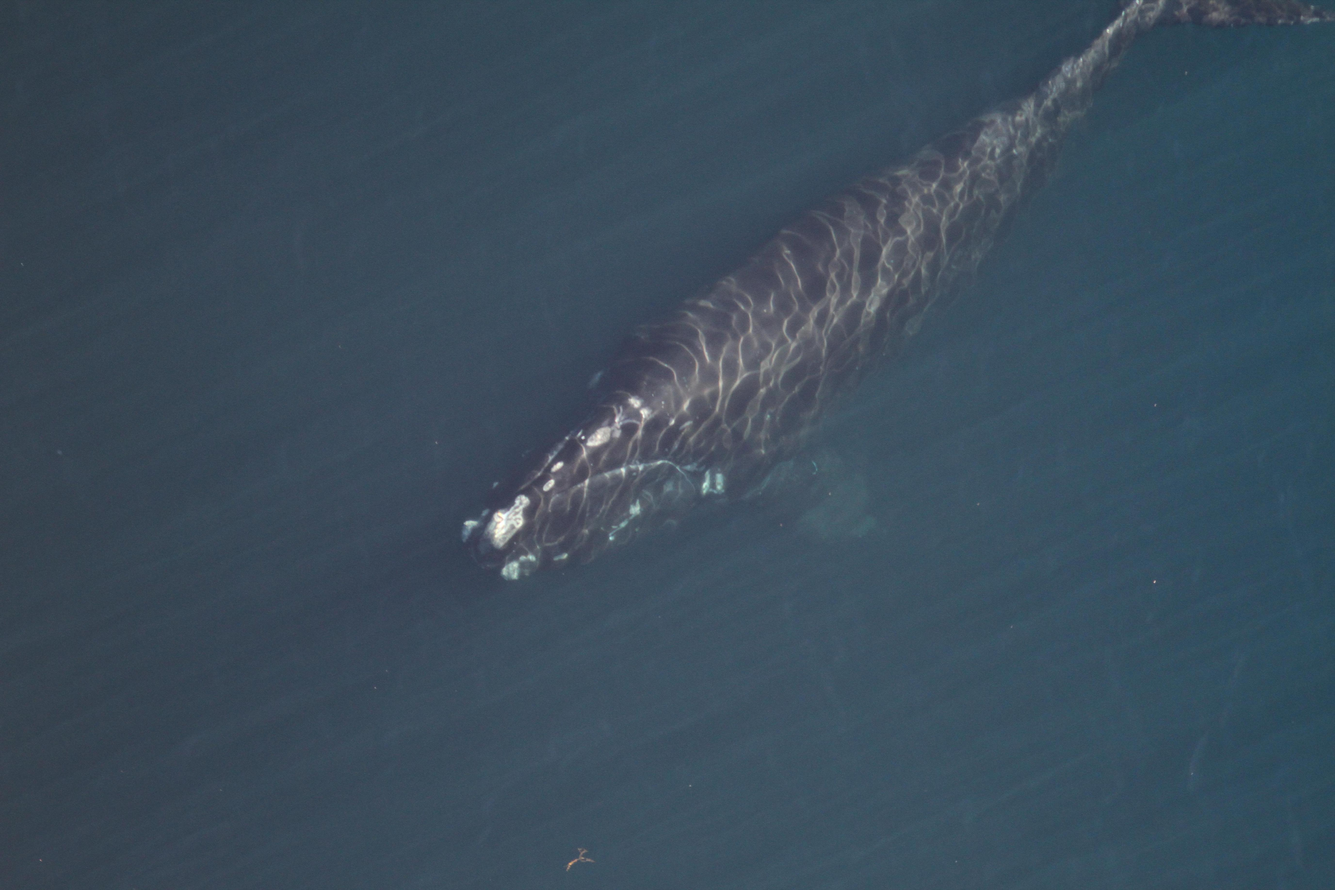whale: (448, 0, 1328, 601)
